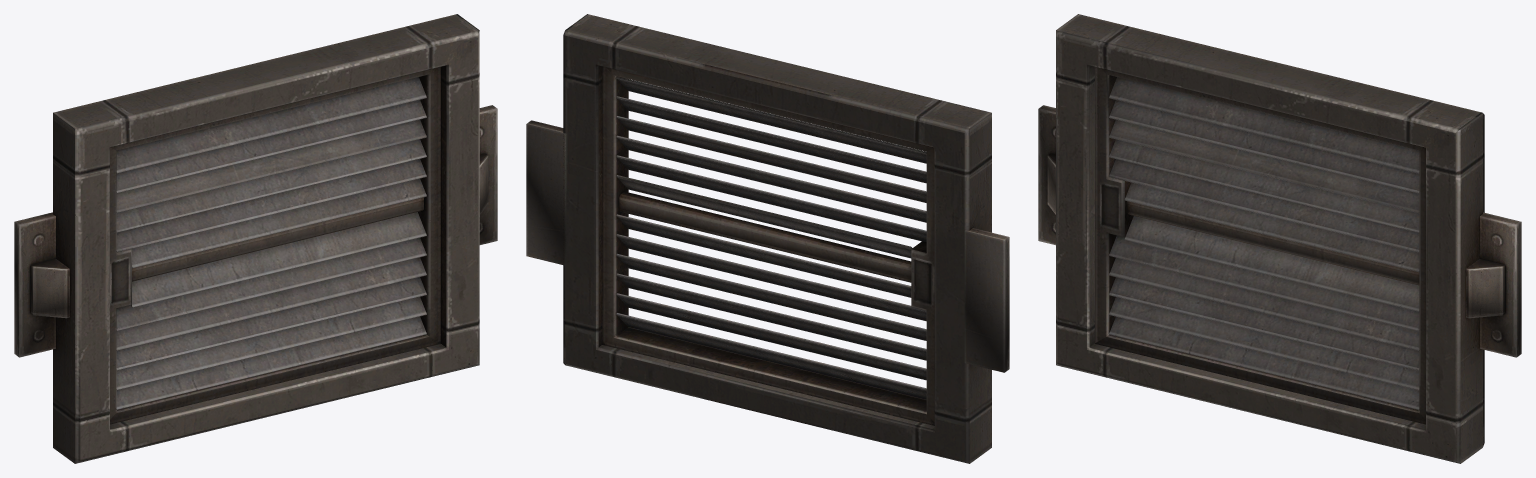
Rendered from hatch_vent.dae.
3 renders of one model, left to right at view 1: azimuth 30°, elevation 25°; view 2: azimuth 150°, elevation 25°; view 3: azimuth 330°, elevation 25°, orthographic.
Visible parts, largest first — view 1: Mesh, door_hatch_slide_ventilation; view 2: Mesh, door_hatch_slide_ventilation; view 3: Mesh, door_hatch_slide_ventilation.
Boxes of the visible parts, x1=… form: Mesh: x1=110, y1=67, x2=440, y2=424; door_hatch_slide_ventilation: x1=14, y1=14, x2=497, y2=463; Mesh: x1=602, y1=66, x2=934, y2=425; door_hatch_slide_ventilation: x1=526, y1=14, x2=1009, y2=463; Mesh: x1=1095, y1=67, x2=1425, y2=424; door_hatch_slide_ventilation: x1=1038, y1=14, x2=1521, y2=463.
Size of the model in its own units: 1.77 by 1.19 by 0.166.
